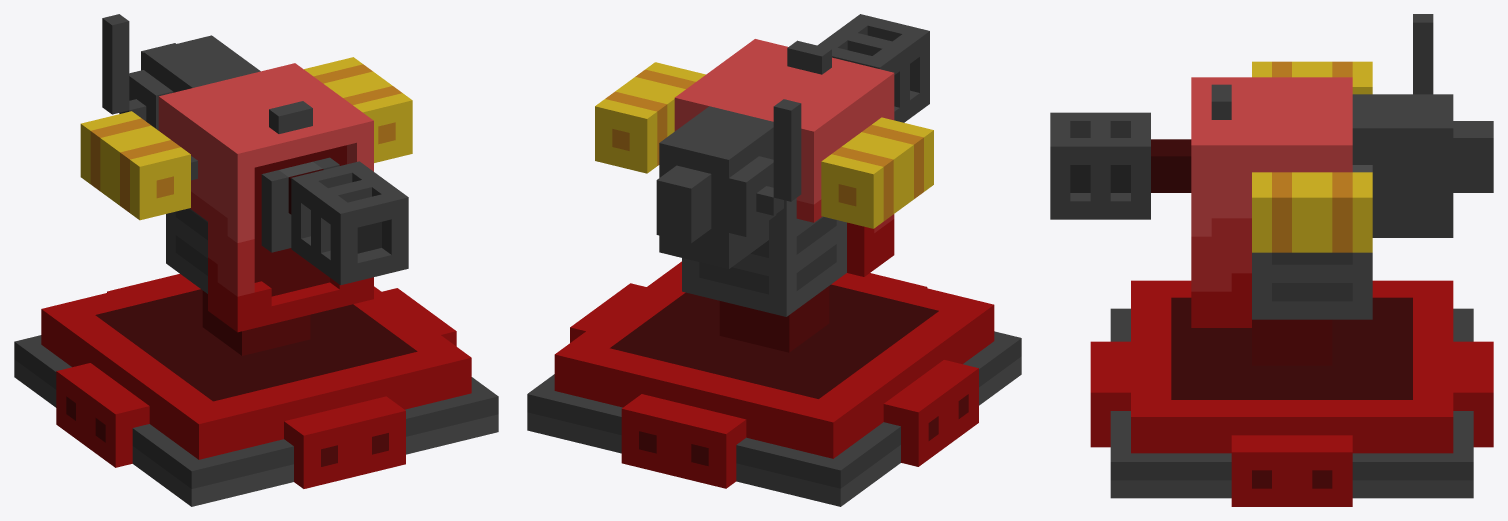
The model's file is Turret(Tower_Defens)-1.obj.
3 views of the same model, side by side, from view 1: azimuth 30°, elevation 25°; view 2: azimuth 150°, elevation 25°; view 3: azimuth 270°, elevation 25° (orthographic). The views are drawn at different scales.
Bounding box in the file's own units: 2 × 2 × 2.2.
Materials: 1 (1 with a texture image).
